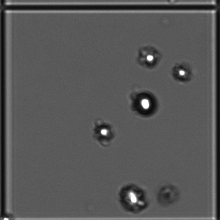Dead Cell: (160, 183, 182, 205)
Living Cell: (118, 180, 148, 211), (130, 88, 162, 117), (93, 115, 116, 148), (170, 60, 194, 88), (136, 43, 157, 70)
